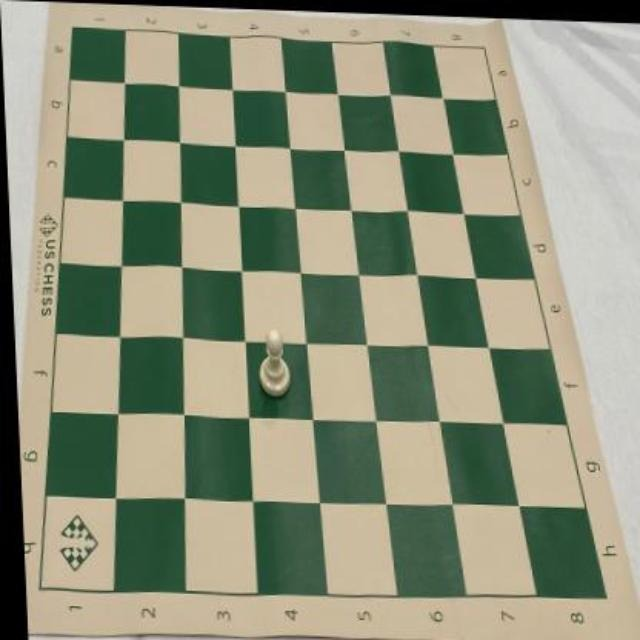white-pawn: (254, 324, 288, 397)
